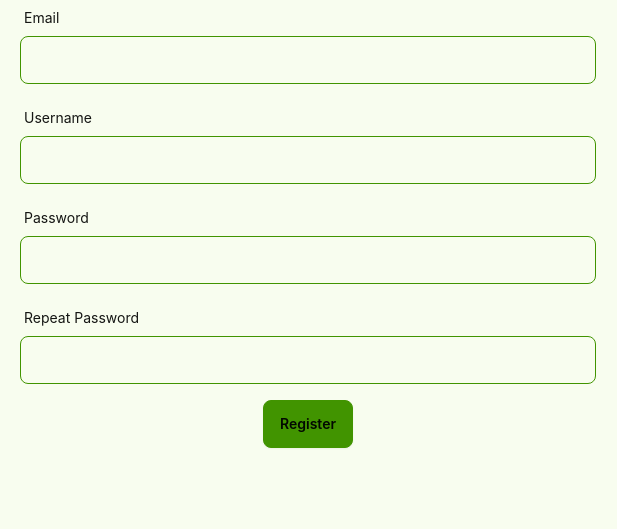
FormRegister Component › should display validation errors when form is submitted without input
Click the button "Register" at (308, 424), box [263,400,353,448]
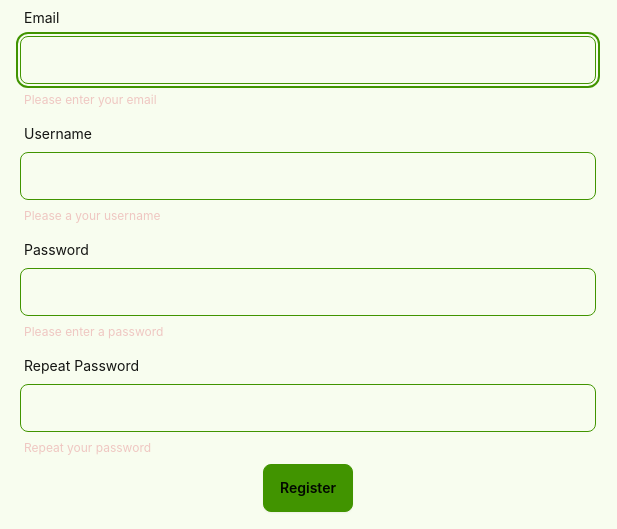
Check: the text "Please enter your email" is shown, box [24,92,157,108]
Check: the text "Please a your username" is shown, box [24,208,160,224]
Check: the text "Please enter a password" is shown, box [24,324,163,340]
